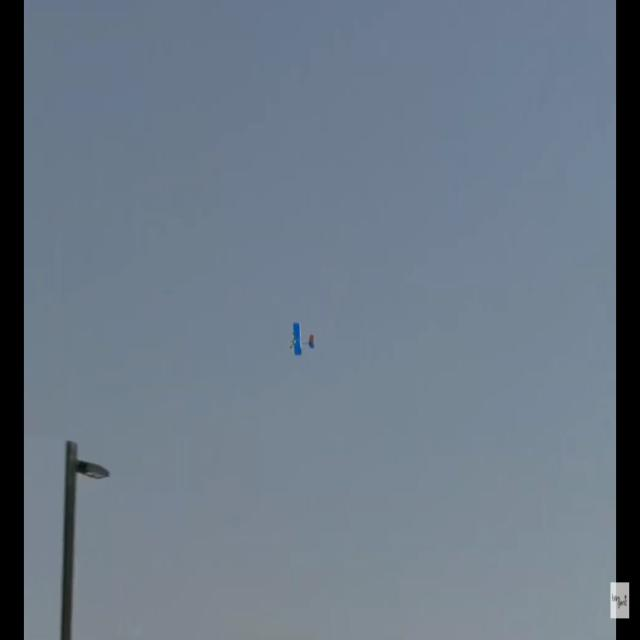iha: (289, 320, 314, 359)
